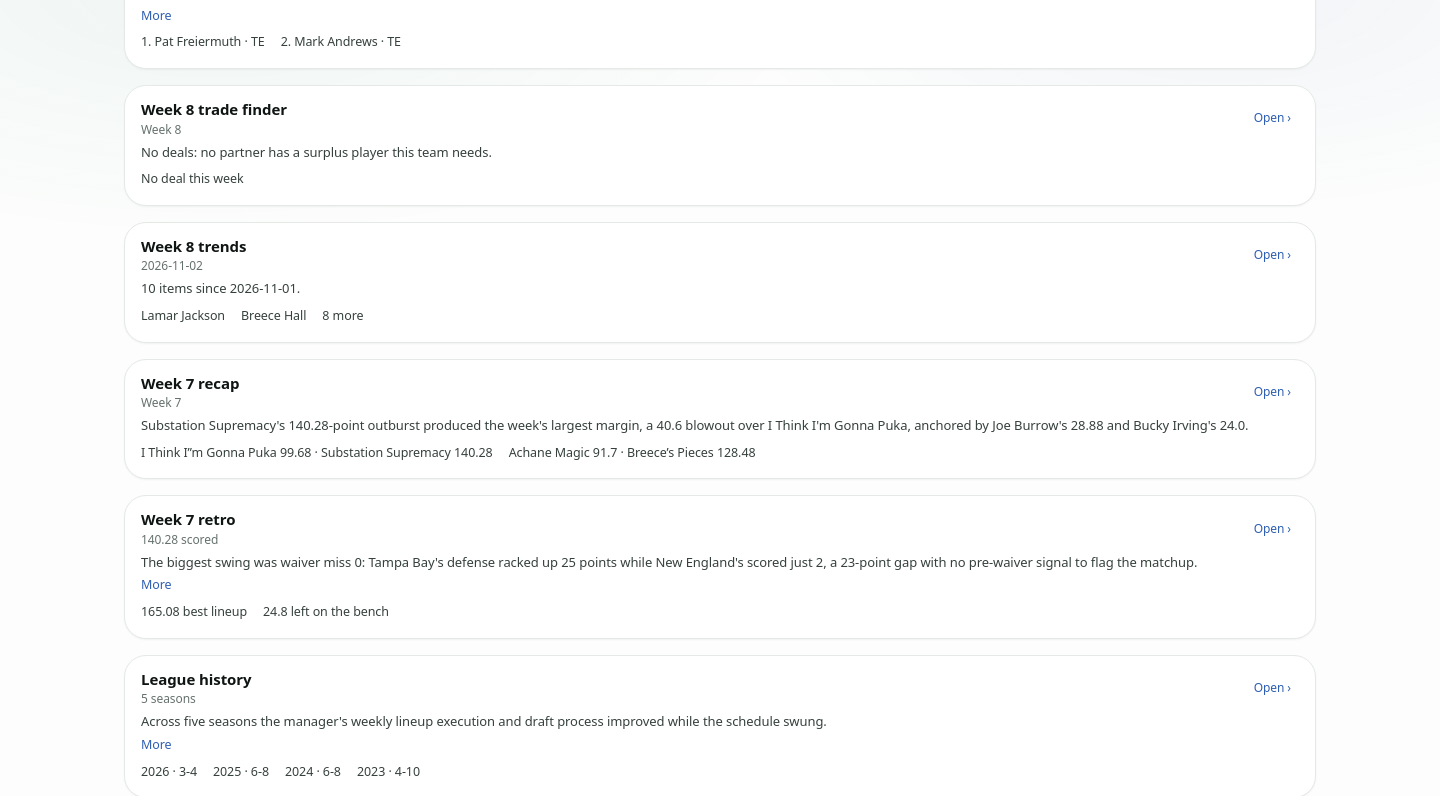
Scenario: the recap opens to every game and the standings with the playoff line
The image size is (1440, 796).
(page scrolled)
Click the button with aria-label "Open Week 7 recap" at point(1272, 392), box [1246,380,1299,404]
(page scrolled)
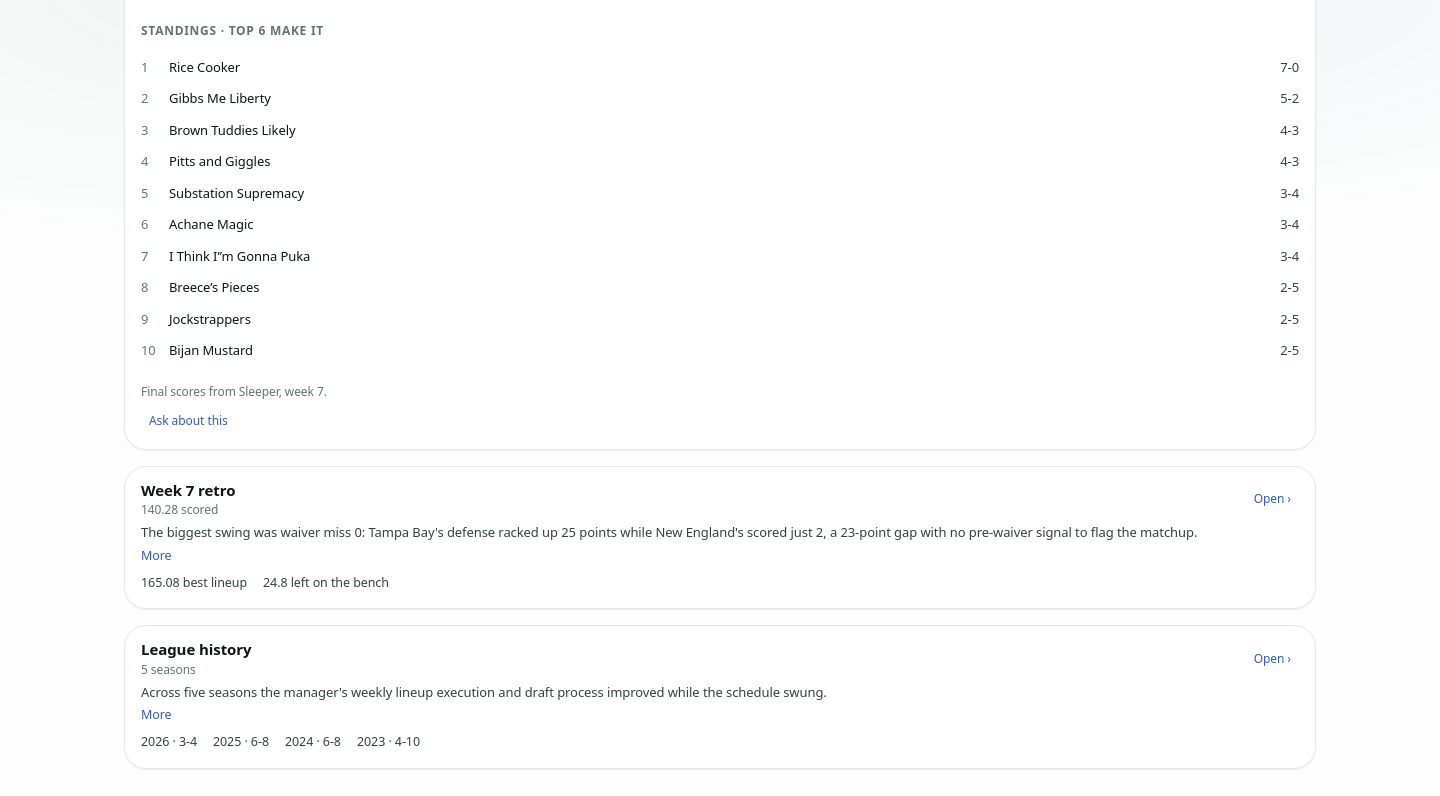
Check: the heading "Standings · top 6 make it" is shown, box [141,22,324,39]
Check: the text "Final scores from Sleeper, week 7." is shown, box [141,383,327,400]
